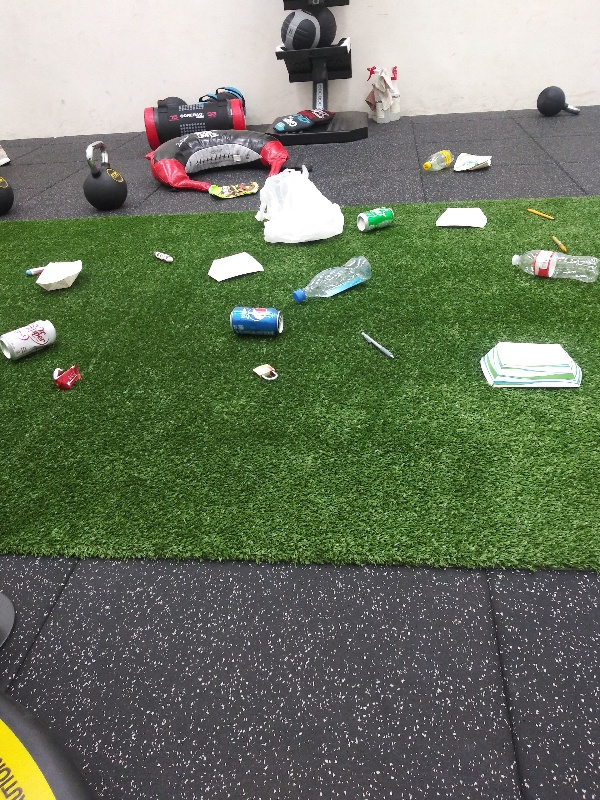bag: (205, 178, 260, 203), (452, 152, 499, 173)
bottle: (289, 252, 374, 303), (506, 248, 600, 292), (418, 147, 455, 173)
can: (1, 316, 59, 363), (226, 303, 285, 337), (353, 205, 398, 235)
plate: (475, 339, 585, 392), (34, 254, 85, 292), (207, 250, 266, 282), (431, 205, 489, 230)
